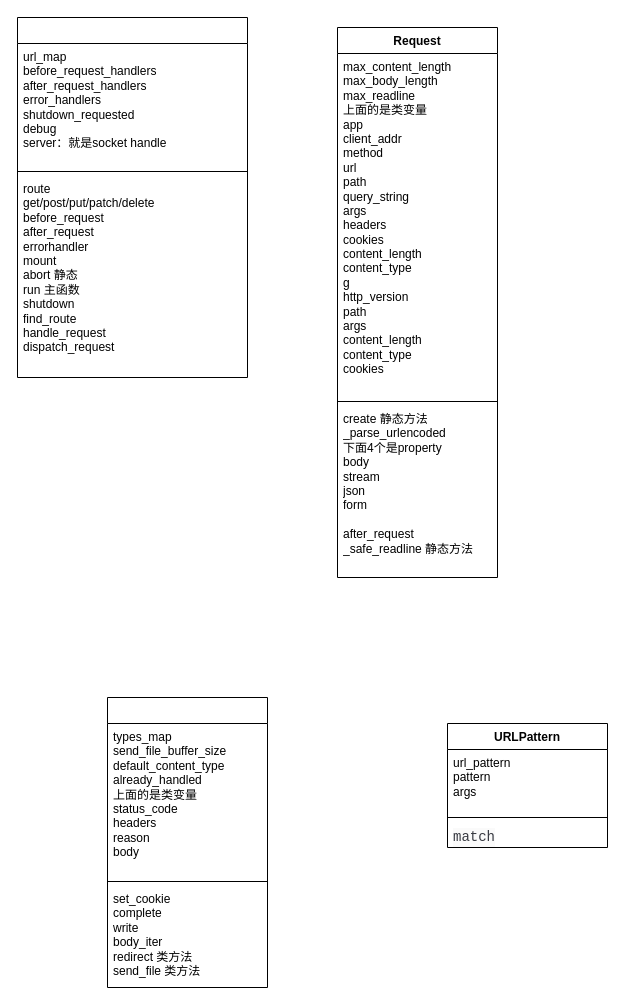
The diagram is 625 pixels wide and 1008 high, and some of its shapes have lost their labels. Here are the shapes that lost their labels. From the top down, the box of each, then its label:
(16, 16, 248, 378): Micordot
(106, 696, 268, 988): Response
